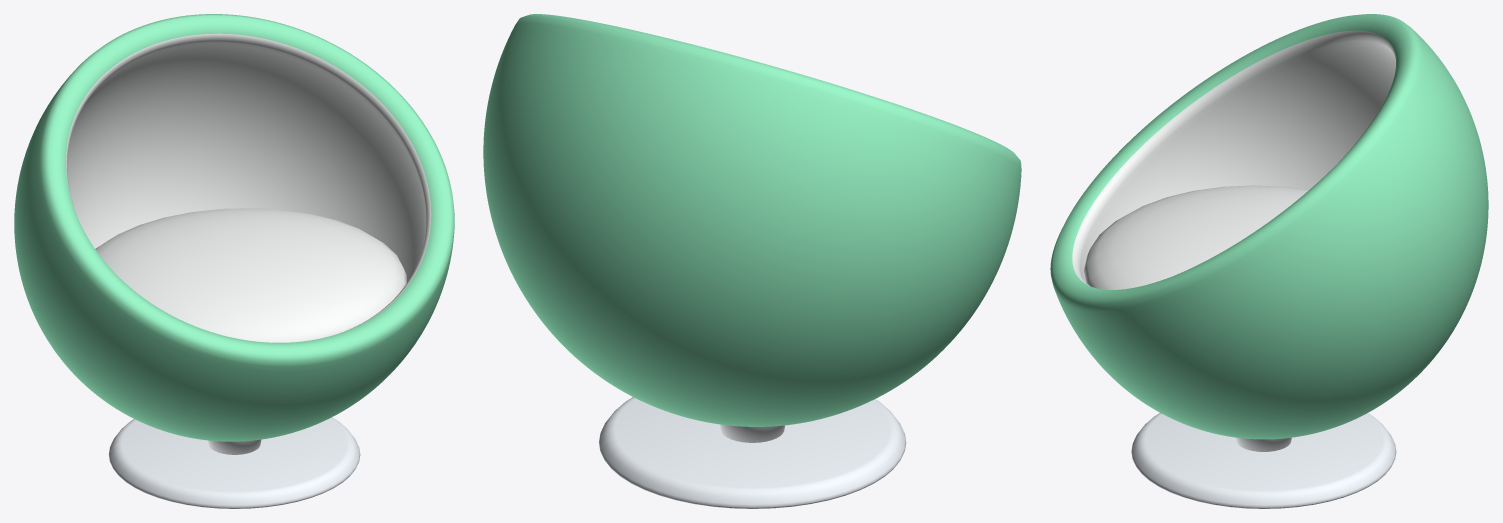
Rendered from pod_chair.glb.
The picture shows the model from 3 angles, left to right: view 1: azimuth 30°, elevation 25°; view 2: azimuth 150°, elevation 25°; view 3: azimuth 270°, elevation 25°; orthographic projection. The views are drawn at different scales.
Parts seen in each view (by area): view 1: PodChair; view 2: PodChair; view 3: PodChair.
Part boxes in pixels (<box>): PodChair: <box>14,14,454,508</box>; PodChair: <box>483,14,1021,508</box>; PodChair: <box>1050,14,1488,508</box>.
Bounding box in the file's own units: 1.05 × 0.9997 × 0.9813.
